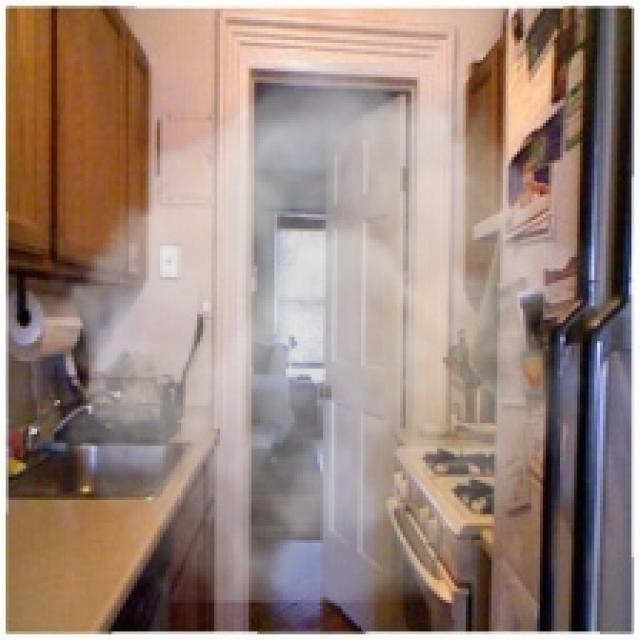smoke: (32, 63, 597, 603)
